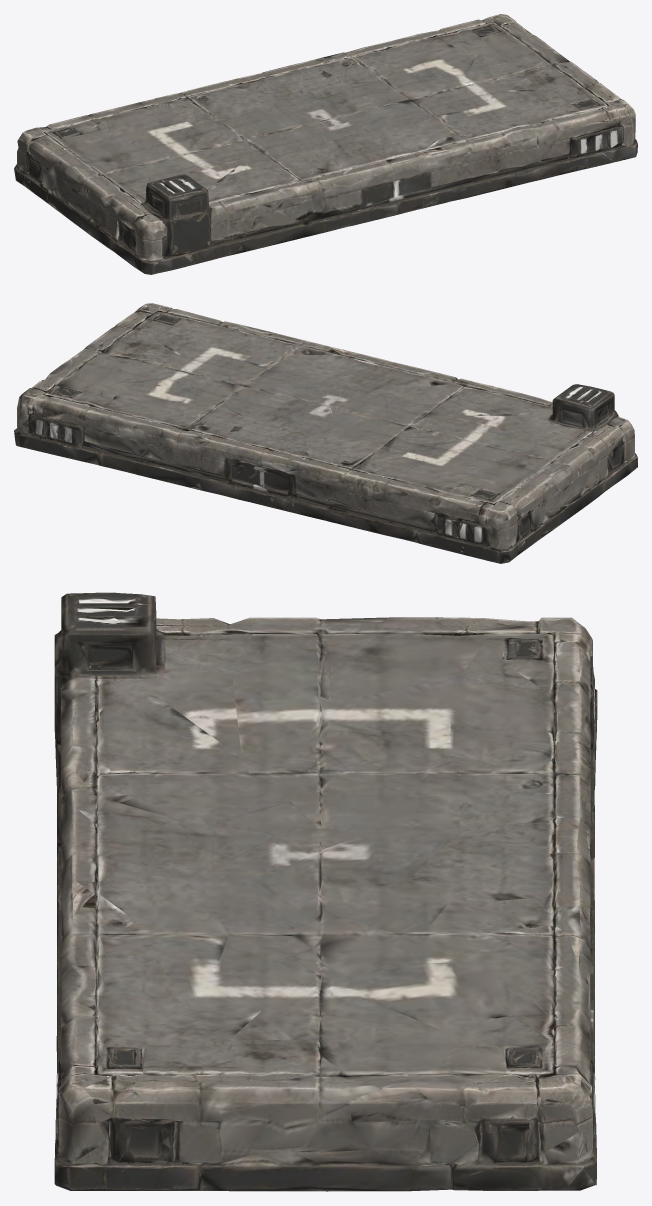
Rendered from landing-platform-stone.glb.
The picture shows the model from 3 angles, top to bottom: view 1: azimuth 30°, elevation 25°; view 2: azimuth 150°, elevation 25°; view 3: azimuth 270°, elevation 25°; orthographic projection. The views are drawn at different scales.
Bounding box in the file's own units: 1.9 × 0.2632 × 0.9028.
Materials: 1 (1 with a texture image).
